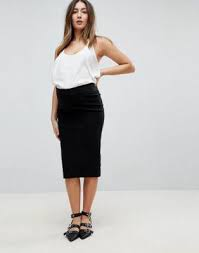F_tailored skirt: (52, 79, 109, 185)
